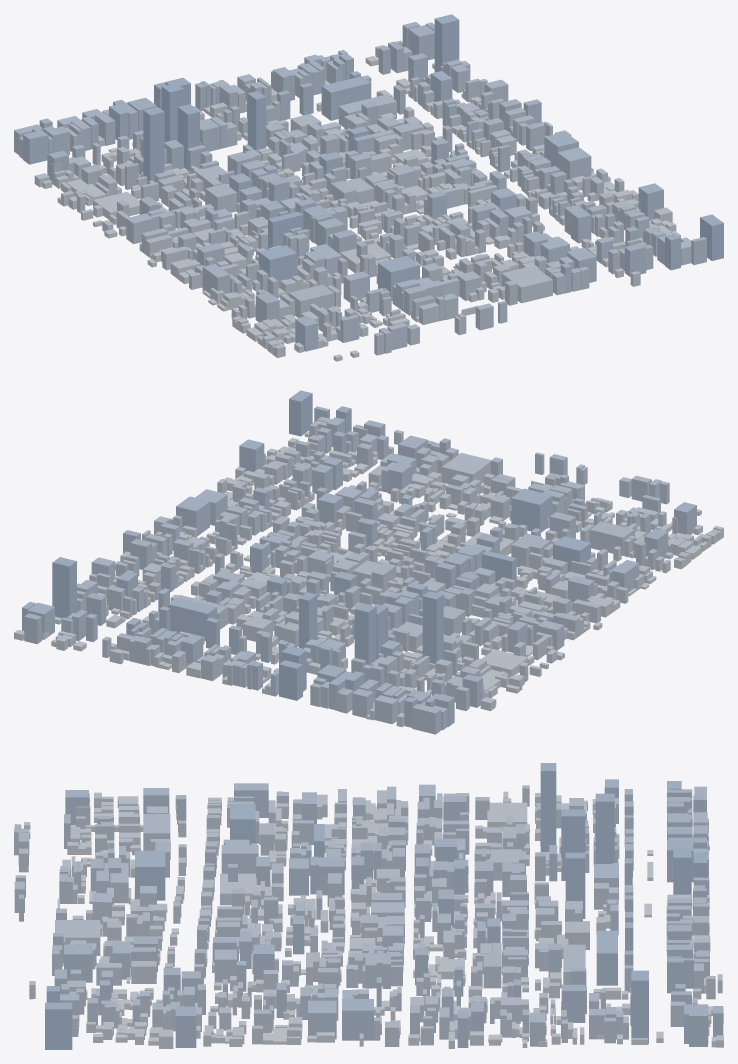
3 views of the same model, one above another, from view 1: azimuth 30°, elevation 25°; view 2: azimuth 150°, elevation 25°; view 3: azimuth 270°, elevation 25° (orthographic). The views are drawn at different scales.
Bounding box in the file's own units: 876 × 139 × 1054.
